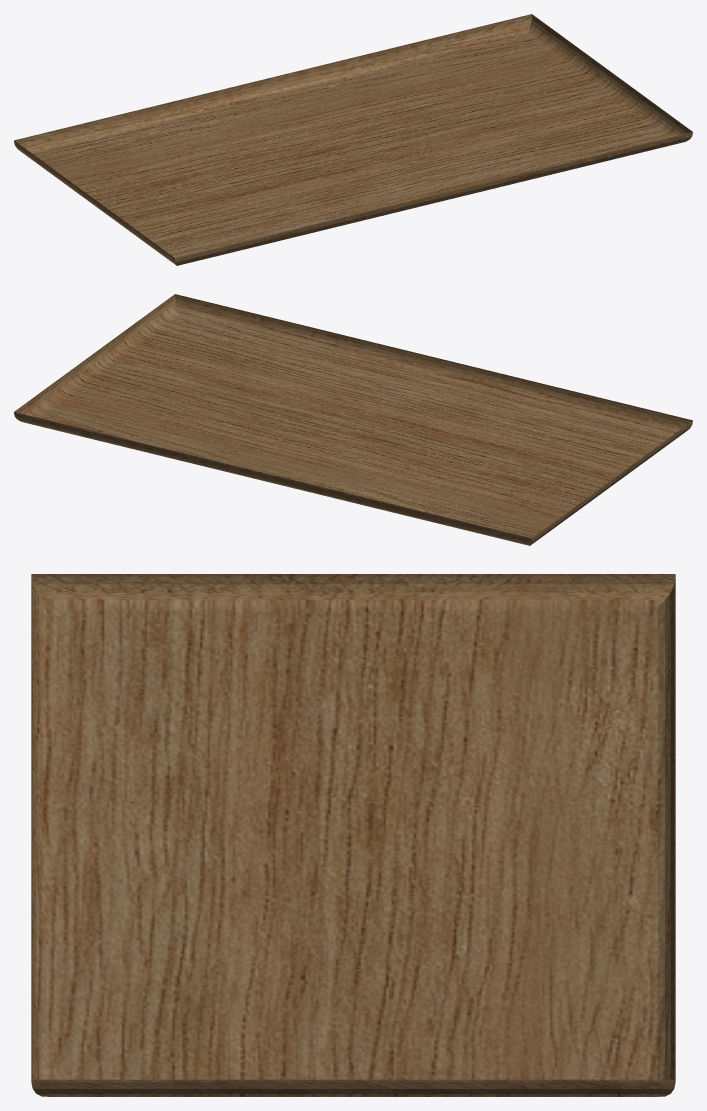
Rendered from food_tray.fbx.
The picture shows the model from 3 angles, top to bottom: view 1: azimuth 30°, elevation 25°; view 2: azimuth 150°, elevation 25°; view 3: azimuth 270°, elevation 25°; orthographic projection. The views are drawn at different scales.
Parts seen in each view (by area): view 1: Cube; view 2: Cube; view 3: Cube.
Boxes of the visible parts, left/top/right/bottom form: Cube: left=14, top=14, right=692, bottom=265; Cube: left=14, top=294, right=692, bottom=545; Cube: left=31, top=574, right=675, bottom=1096.
Bounding box in the file's own units: 39.75 × 0.9538 × 21.41.
